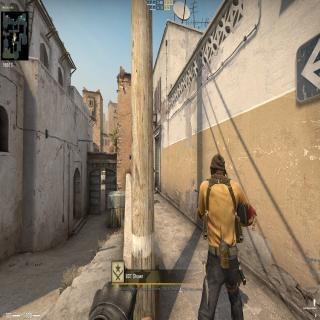T-Head: (209, 153, 227, 178)
